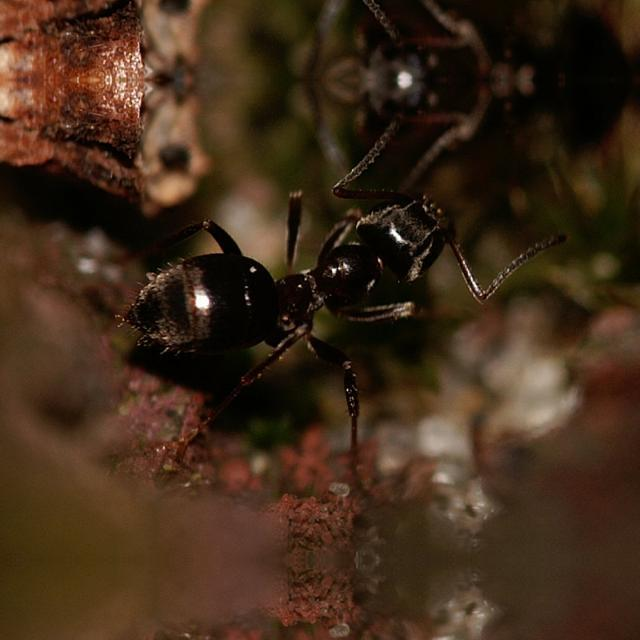Lasius: (101, 164, 503, 404)
